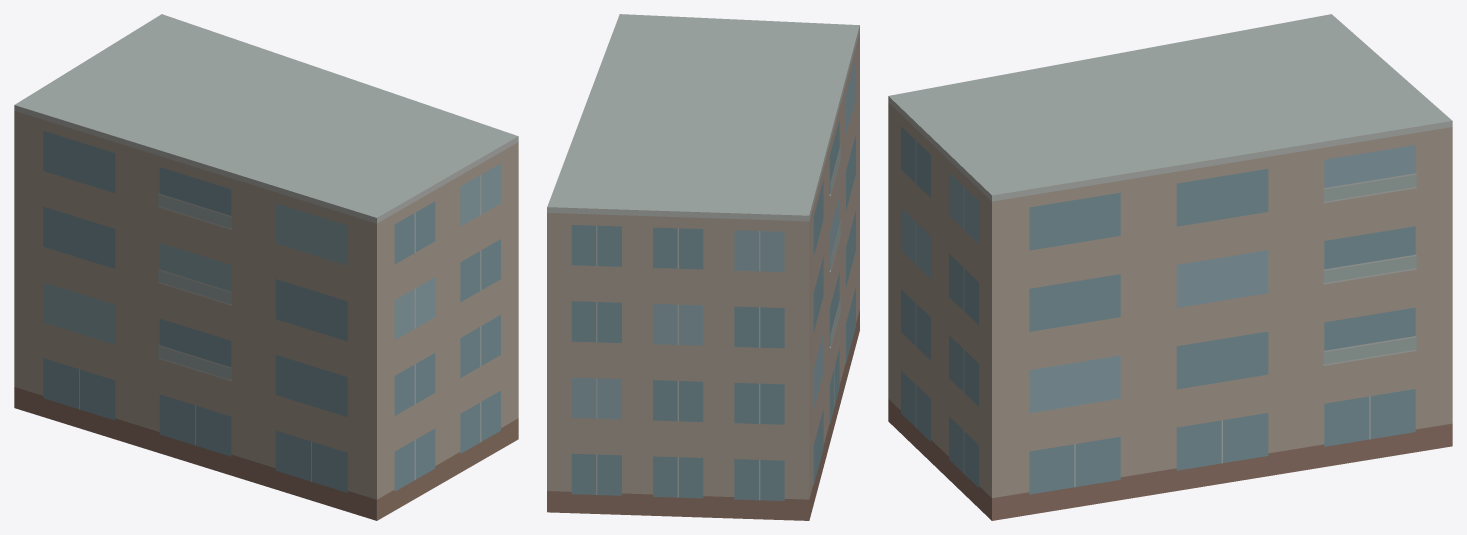
File: survey-upis-32702284.glb
The picture shows the model from 3 angles, left to right: view 1: azimuth 30°, elevation 25°; view 2: azimuth 150°, elevation 25°; view 3: azimuth 270°, elevation 25°; orthographic projection. The views are drawn at different scales.
Visible parts, largest first — view 1: survey-upis-32702284.tmp; view 2: survey-upis-32702284.tmp; view 3: survey-upis-32702284.tmp.
Part boxes in pixels (x1,y1,x2,y2): survey-upis-32702284.tmp: (14, 14, 518, 520); survey-upis-32702284.tmp: (547, 14, 859, 520); survey-upis-32702284.tmp: (888, 14, 1452, 520).
Size of the model in its own units: 15.62 by 13.05 by 20.52.
